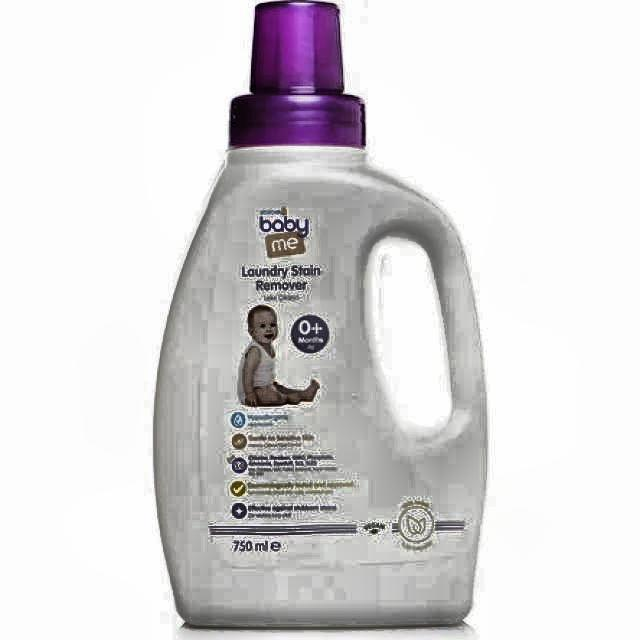plastic: (151, 0, 492, 633)
